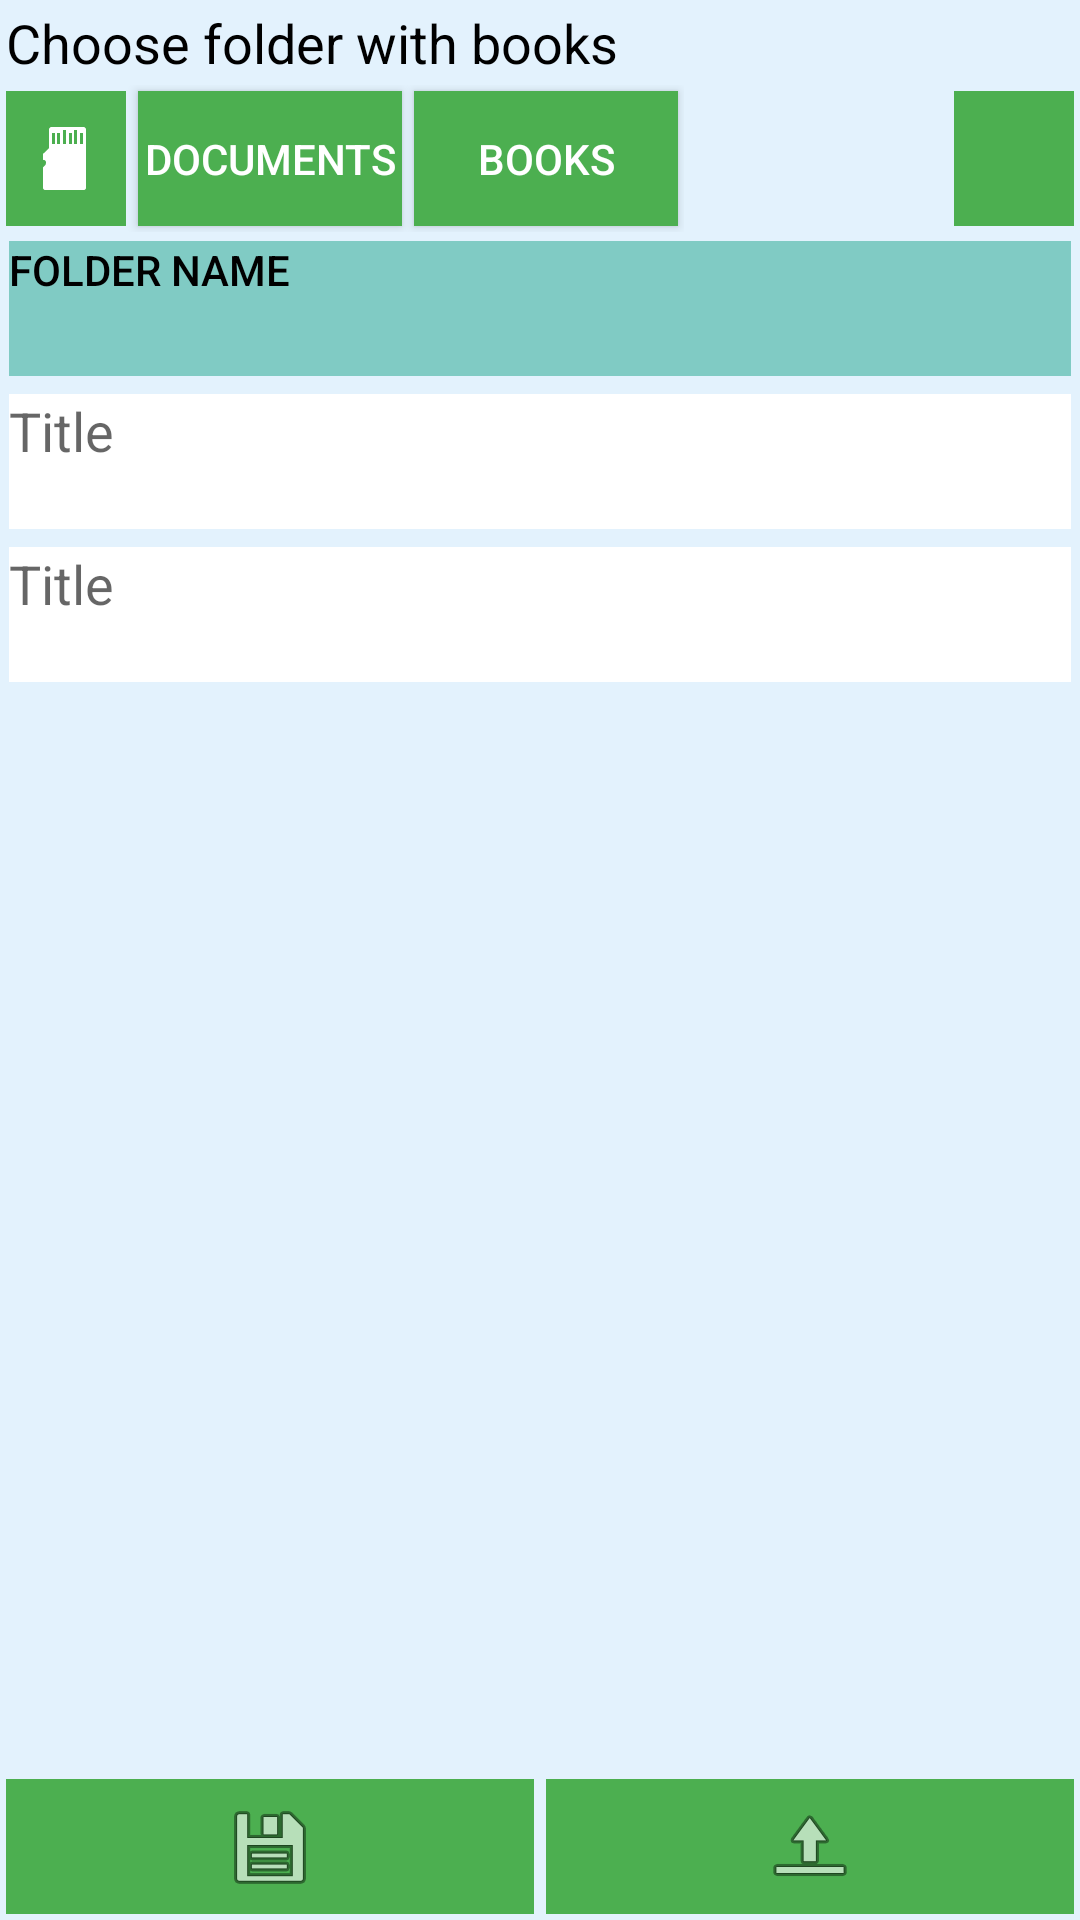

Icon click points for this 1080x1920 phone screenshot, format [x,y]:
sdcard: [66,158]
